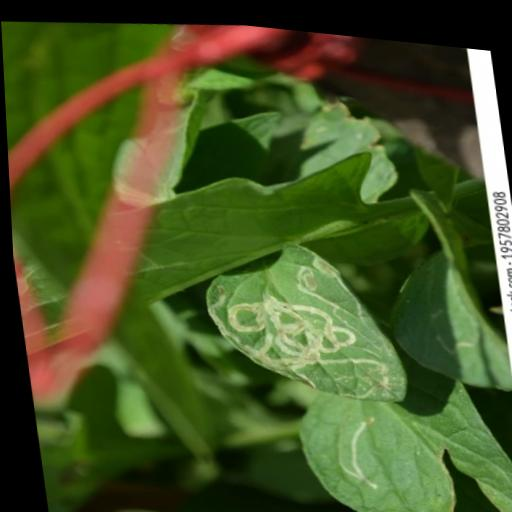Leaf_Miner: (194, 218, 410, 417), (368, 170, 508, 390), (287, 376, 450, 512)
